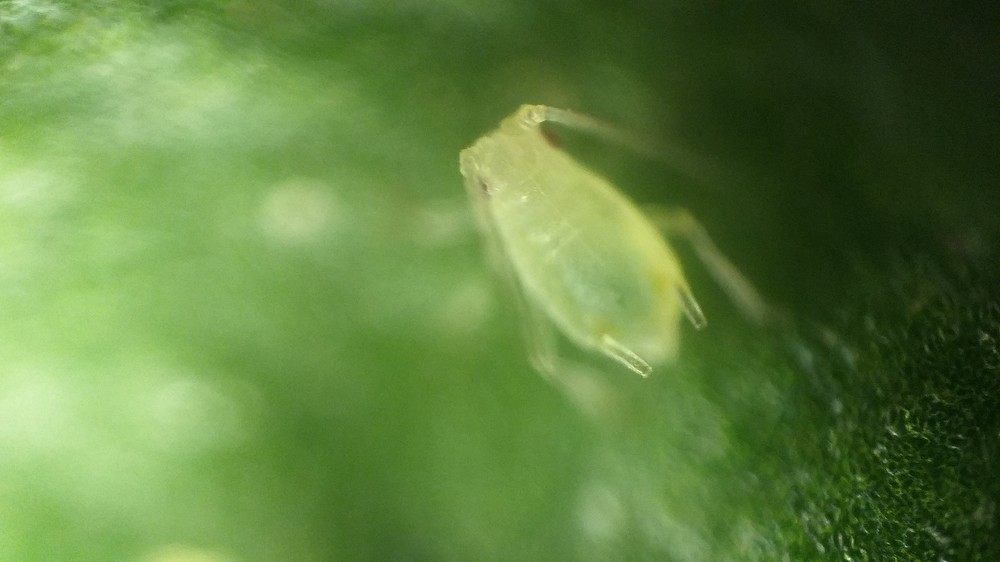Pulgon: (401, 101, 819, 431)
